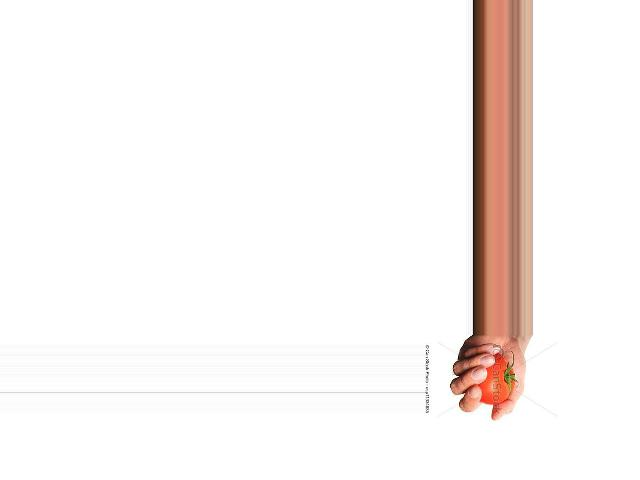tomato: (479, 354, 514, 405)
